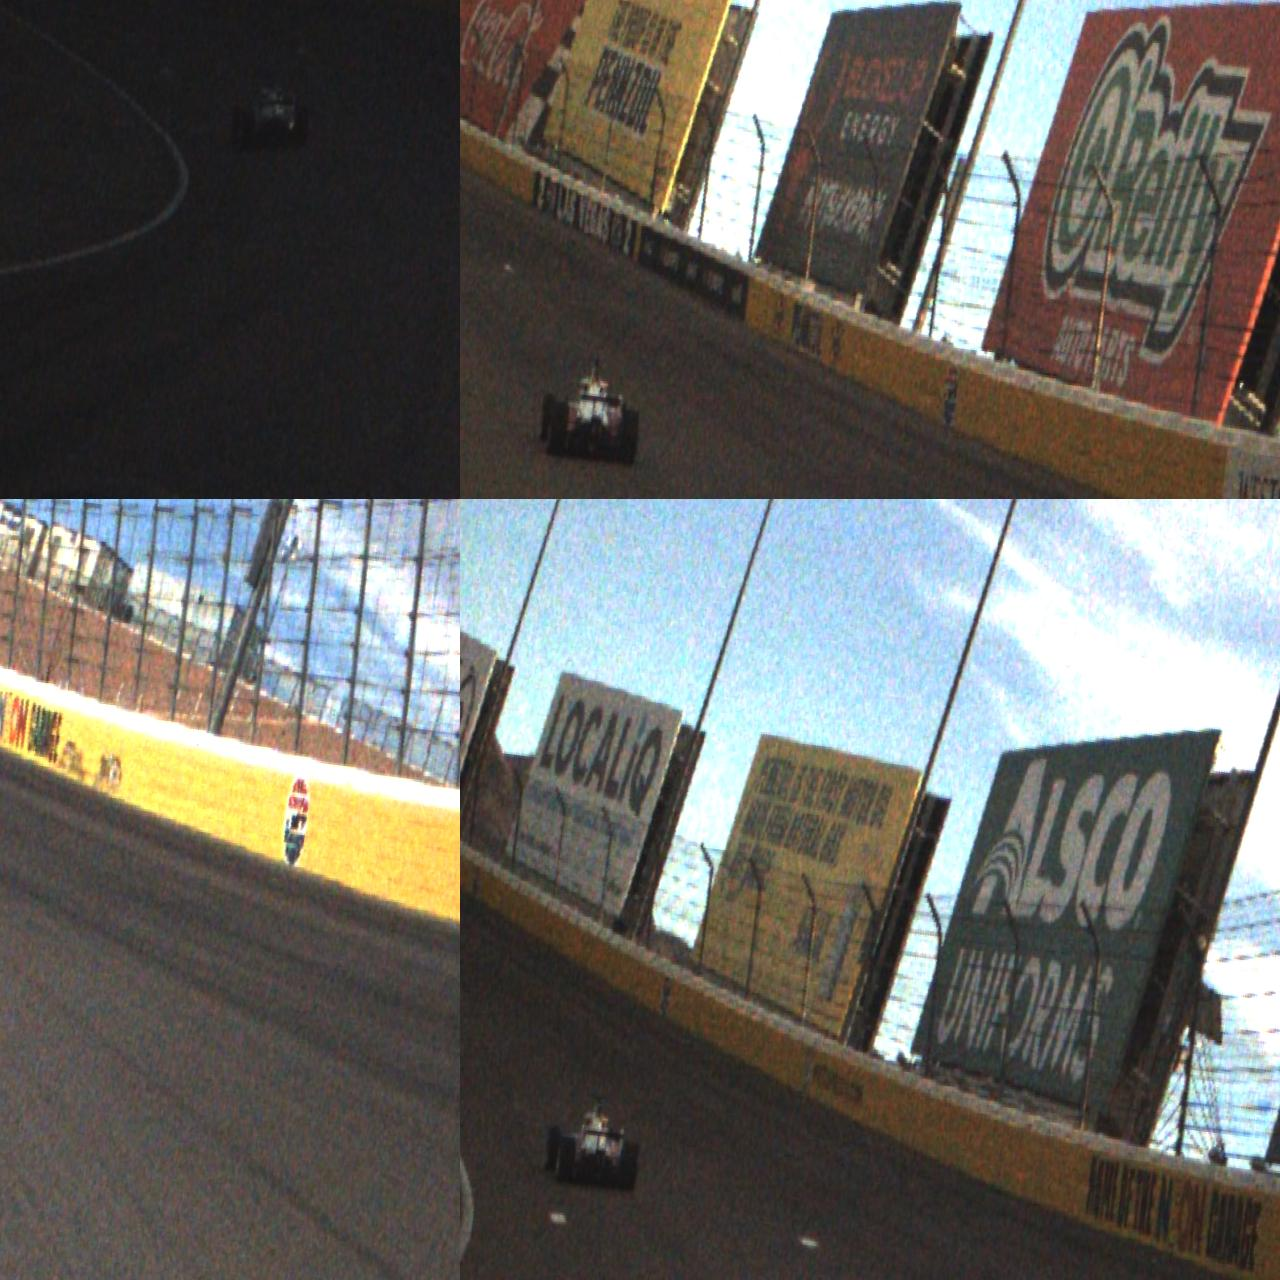AV: (537, 352, 647, 469), (543, 1090, 645, 1192), (227, 64, 313, 158)
Wheel: (546, 400, 570, 459), (618, 408, 641, 467), (554, 1135, 578, 1184), (618, 1141, 640, 1192), (538, 393, 558, 444), (544, 1125, 561, 1172)
